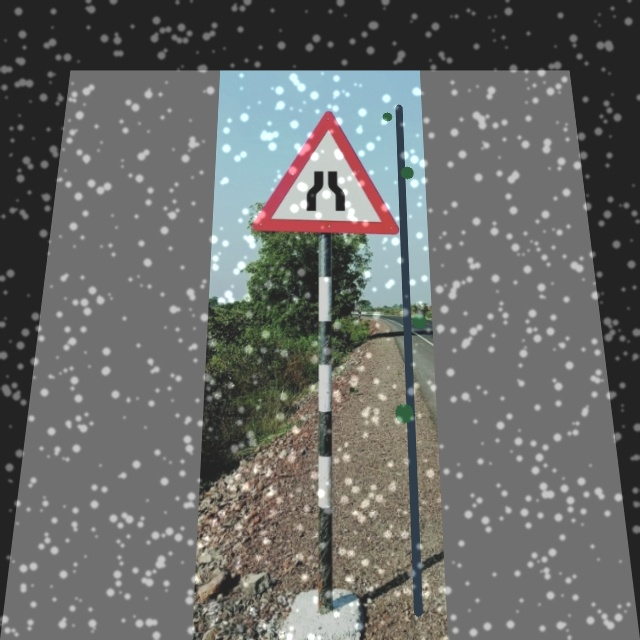Narrow_Road_Ahead: (255, 113, 400, 236)
